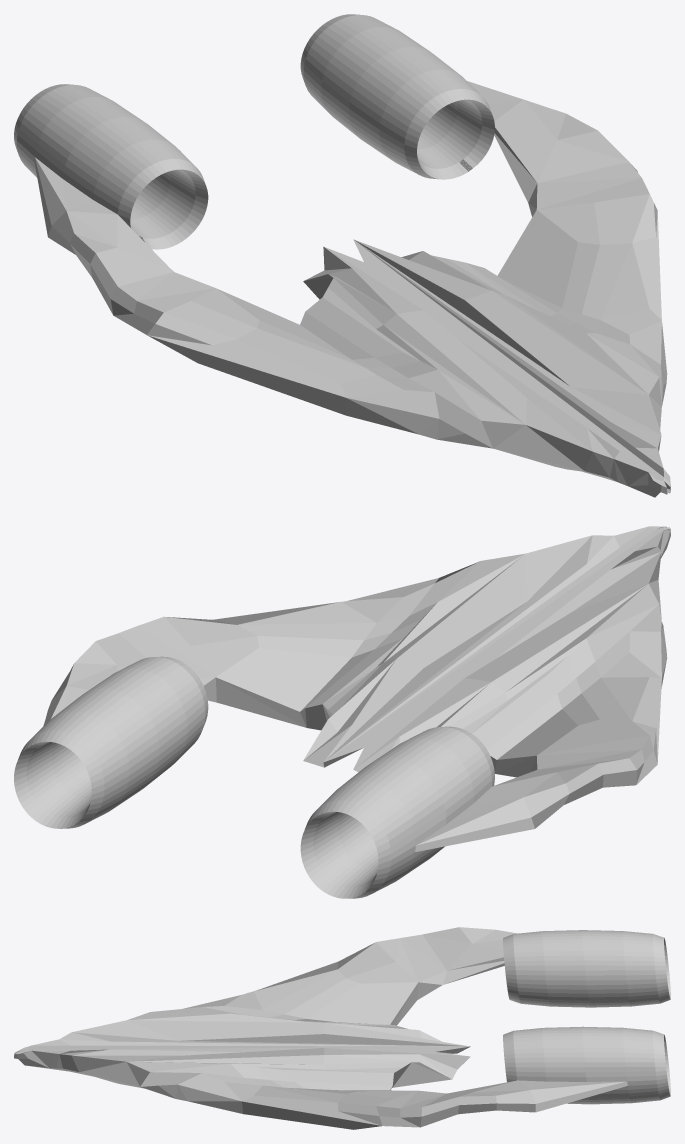
The model's file is maybe_don't_kill_me.glb.
3 renders of one model, top to bottom at view 1: azimuth 30°, elevation 25°; view 2: azimuth 150°, elevation 25°; view 3: azimuth 270°, elevation 25°, orthographic. The views are drawn at different scales.
Visible parts, largest first — view 1: Cube; view 2: Cube; view 3: Cube.
Part boxes in pixels (x1,y1,x2,y2): Cube: [14, 14, 670, 497]; Cube: [14, 526, 670, 898]; Cube: [14, 927, 670, 1129].
Bounding box in the file's own units: 2.21 × 0.5559 × 3.46.
Materials: 1 (1 with a texture image).
